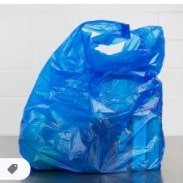kantong: (18, 19, 166, 174)
